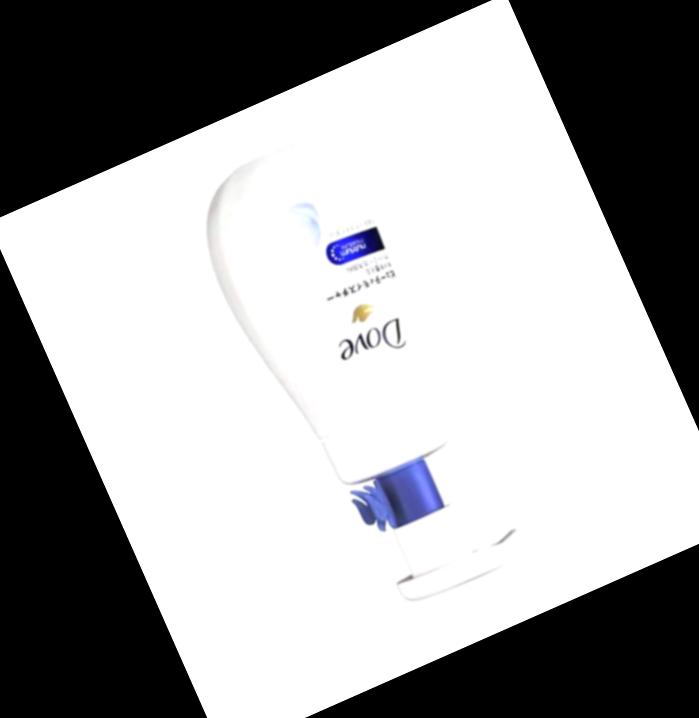cosmetic: (172, 112, 543, 630)
